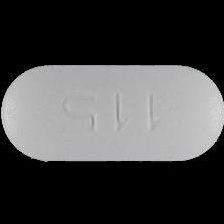10544-622: (0, 0, 224, 224)
